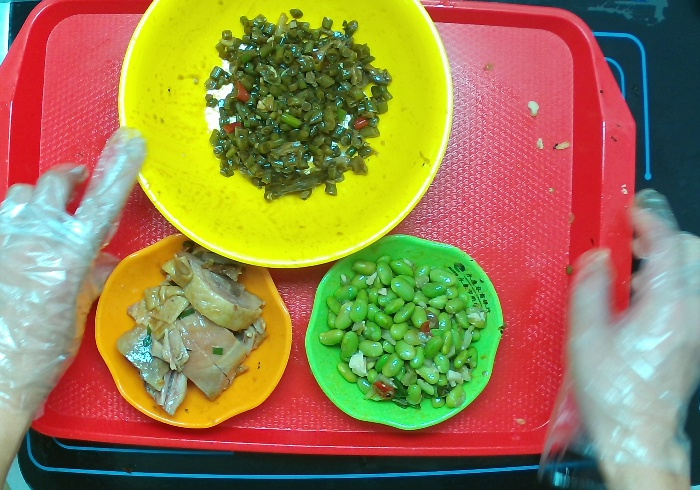YKMZ-Huang_Se_Tang_Wan: (109, 1, 460, 272)
YKMZ-Ju_Se_Ao_Bian_Wan: (80, 227, 299, 435)
YKMZ-Lv_Se_Ao_Bian_Wan: (298, 224, 508, 433)
